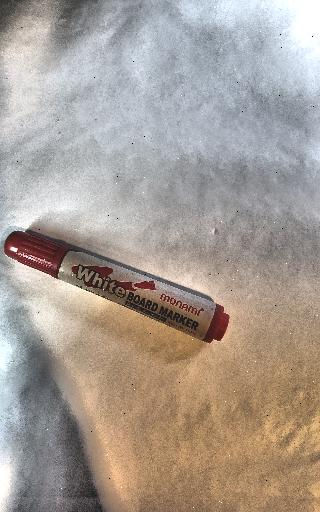marcador rojo: (4, 231, 229, 342)
